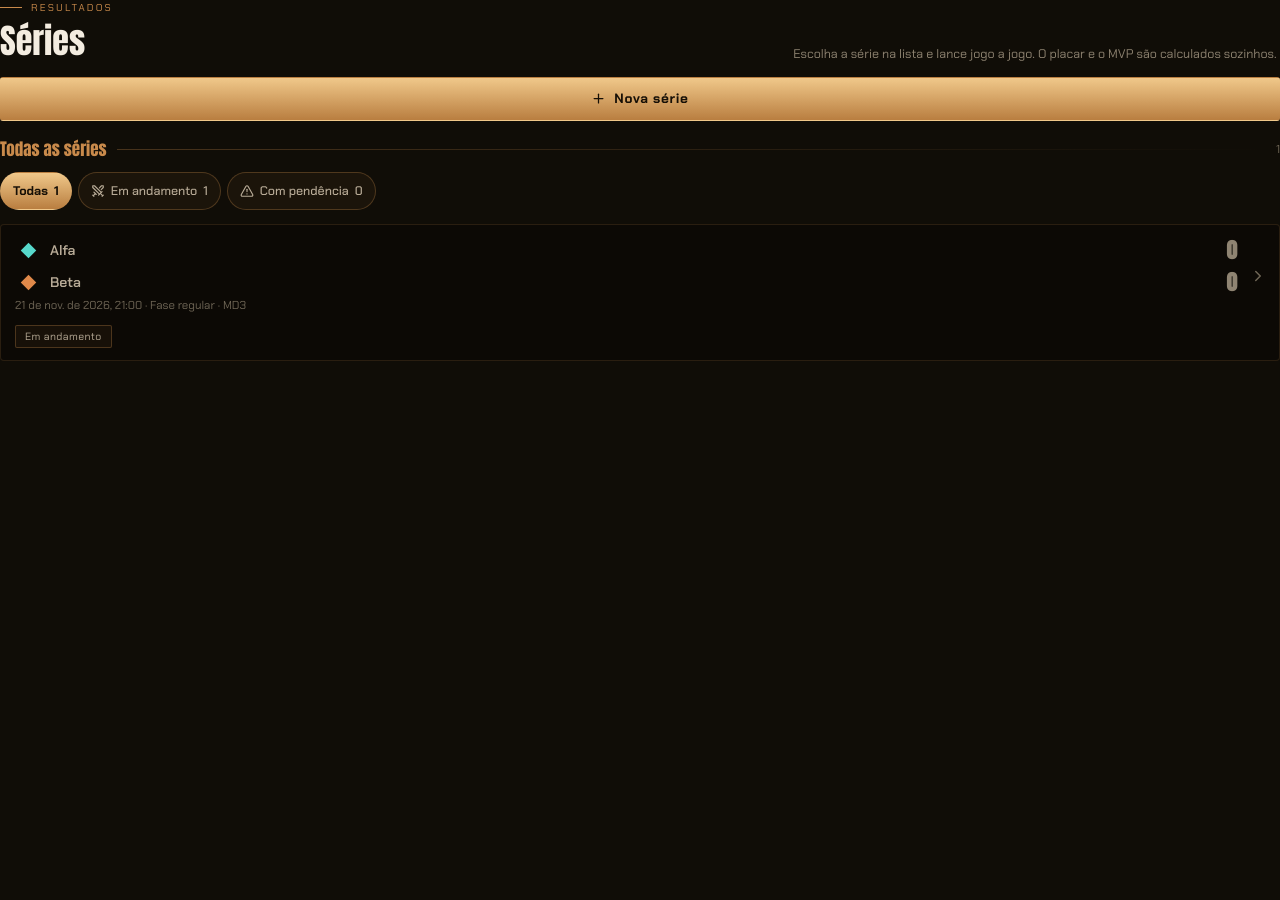
Test: sortear ao vivo só sobre a série gravada (PNL-07) › no celular também
The image size is (1280, 900).
Click the button "Alfa 0 Beta 0" at (65, 282), box left=15, top=237, right=1237, bottom=295
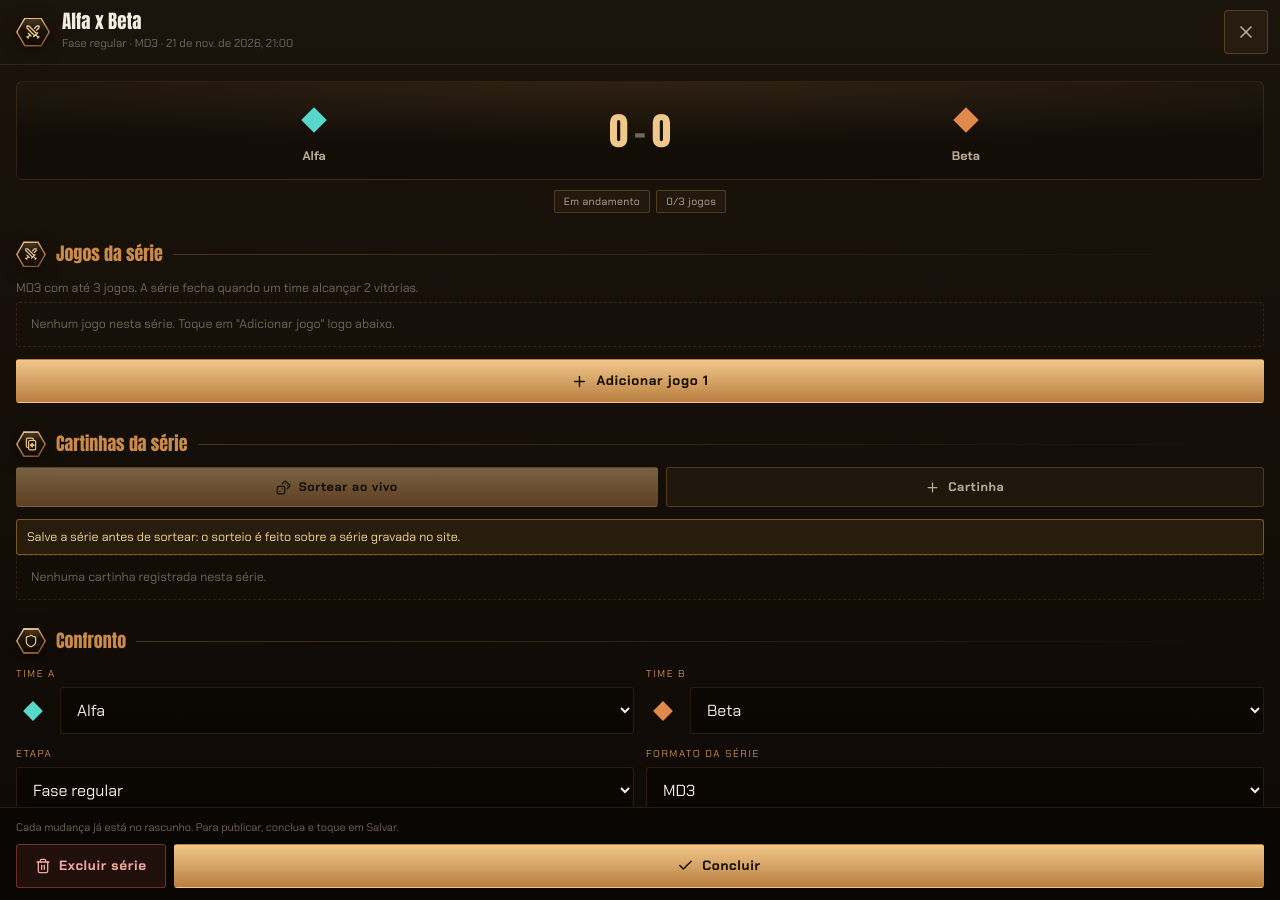
Now the button "Sortear ao vivo" is disabled, box left=16, top=467, right=658, bottom=507
